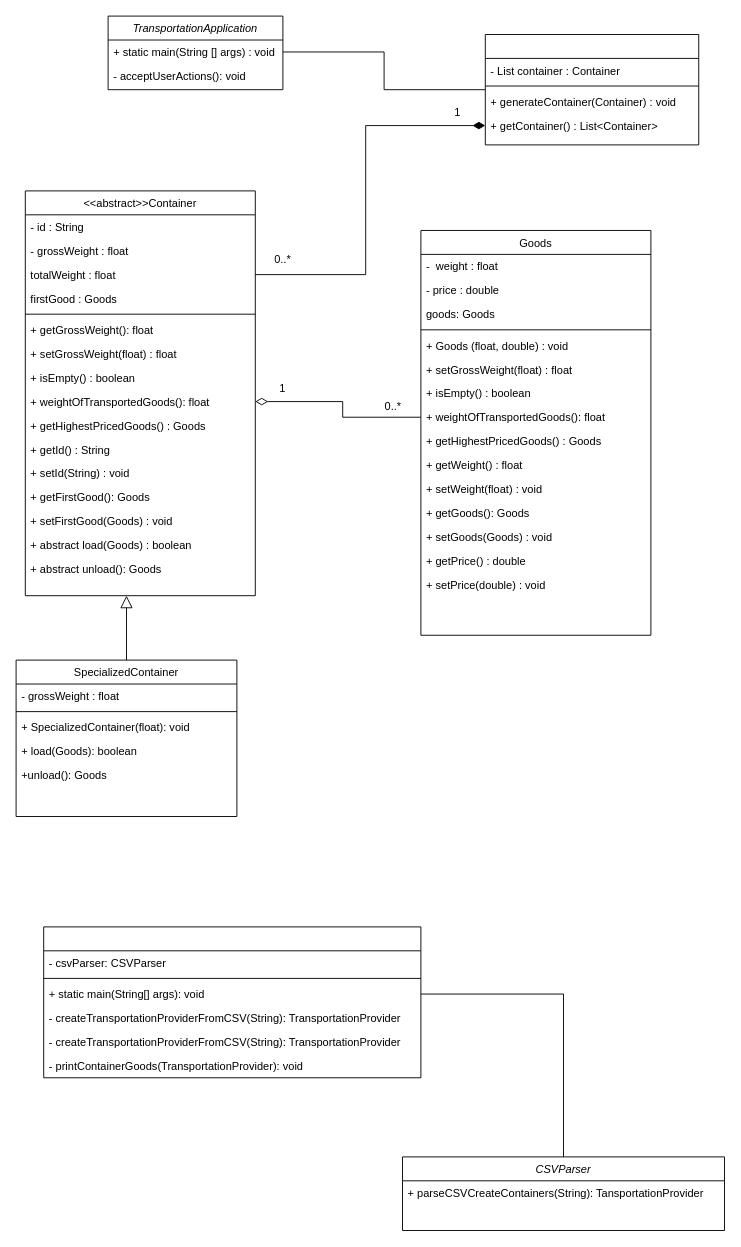
Some shapes in this 741 by 1247 pixel diagram are drawn without their labels. The shapes that lost their labels are listed below. From the top down, each one's box as (x1, y1, x2, y2) in pixels, then its label:
(484, 34, 699, 145): TransportationProvider
(43, 926, 421, 1078): CSVUploader
